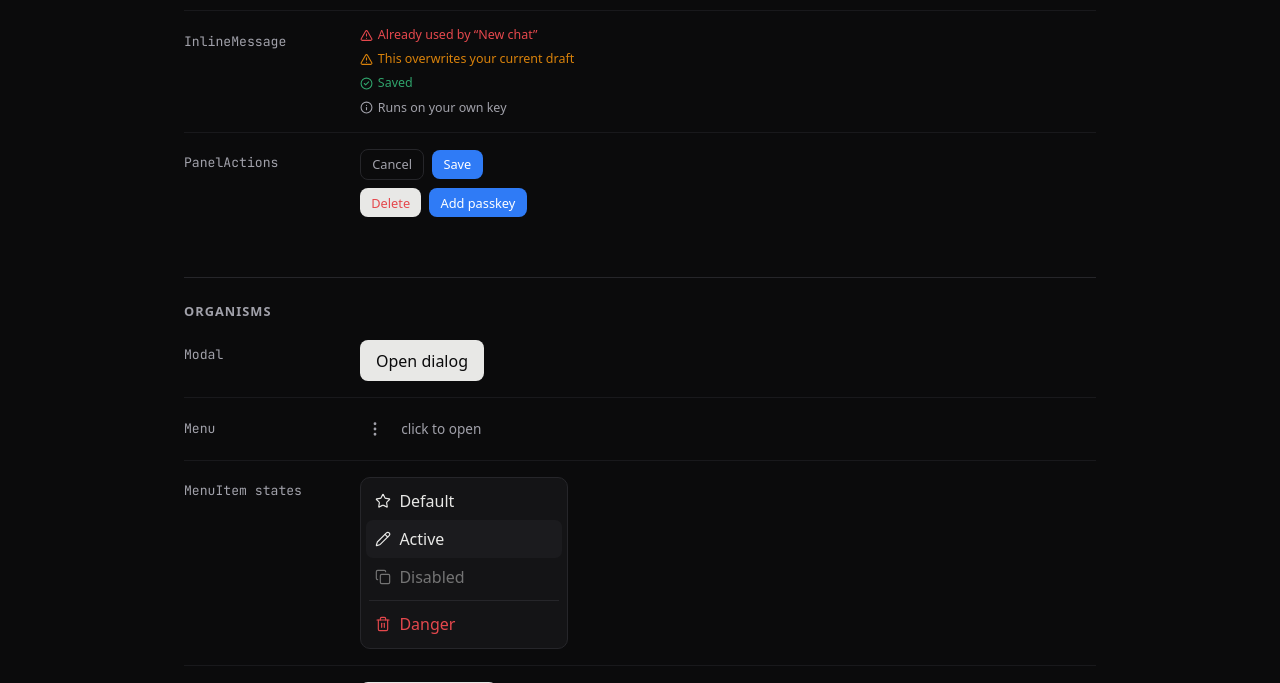
Test case: DesignSystem gallery › the Modal specimen opens and closes
(page scrolled)
Click the button "Open dialog": (422,361) [360,340,484,381]
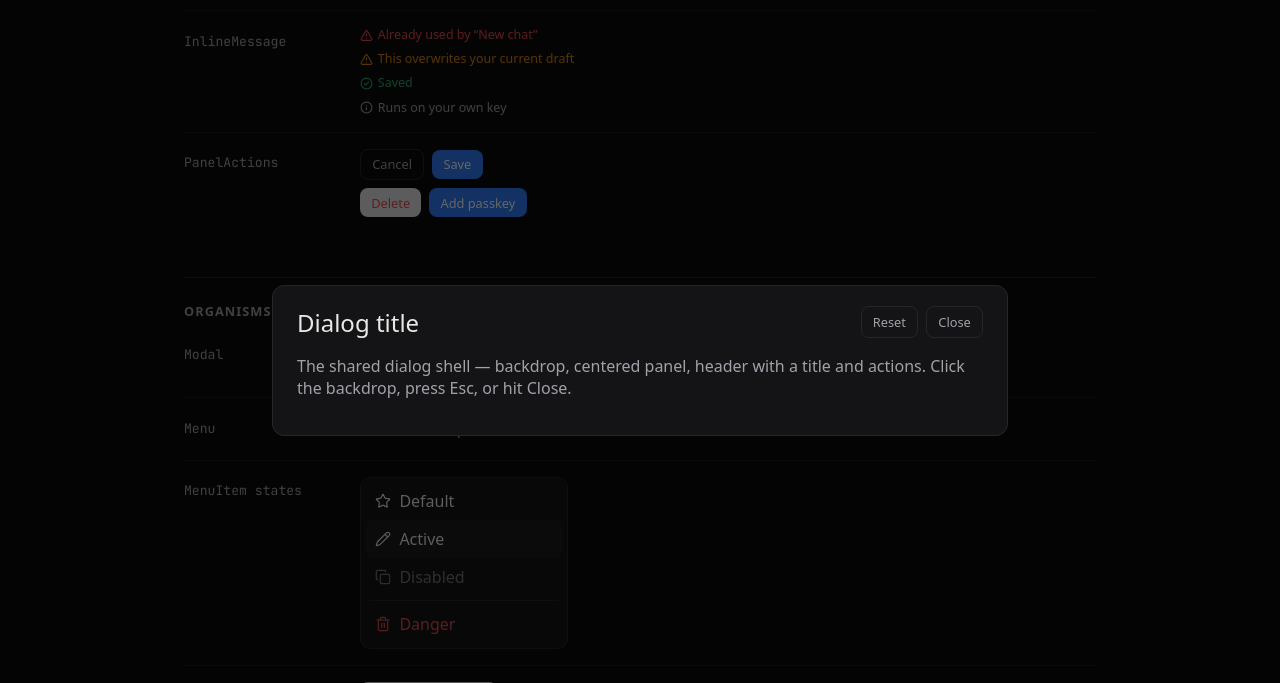
Click the button "Close": (955,322) [926,306,983,338]
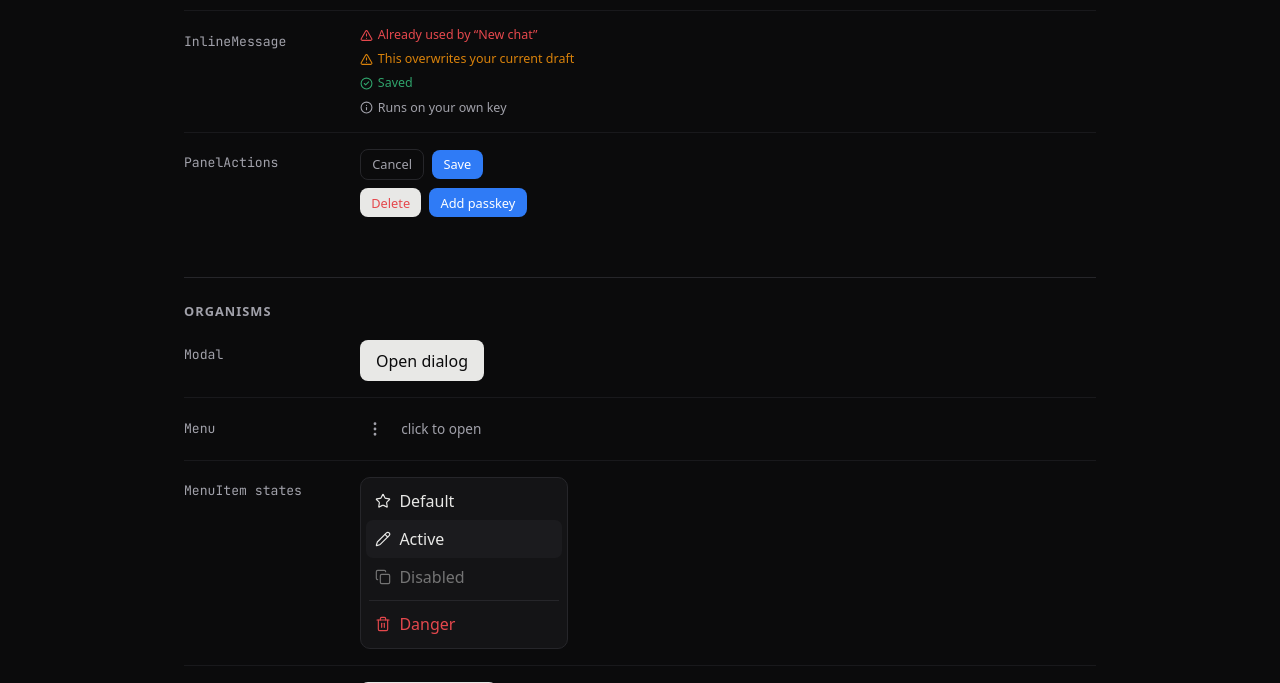
Expected: the dialog is gone
